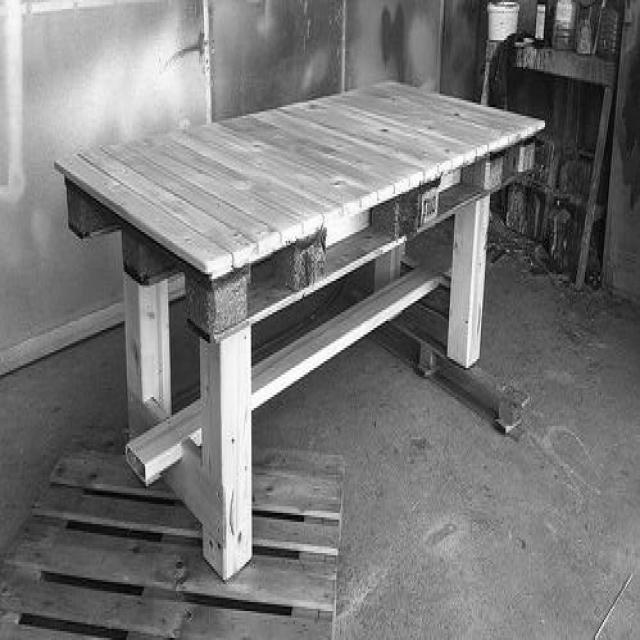table: (54, 76, 548, 581)
